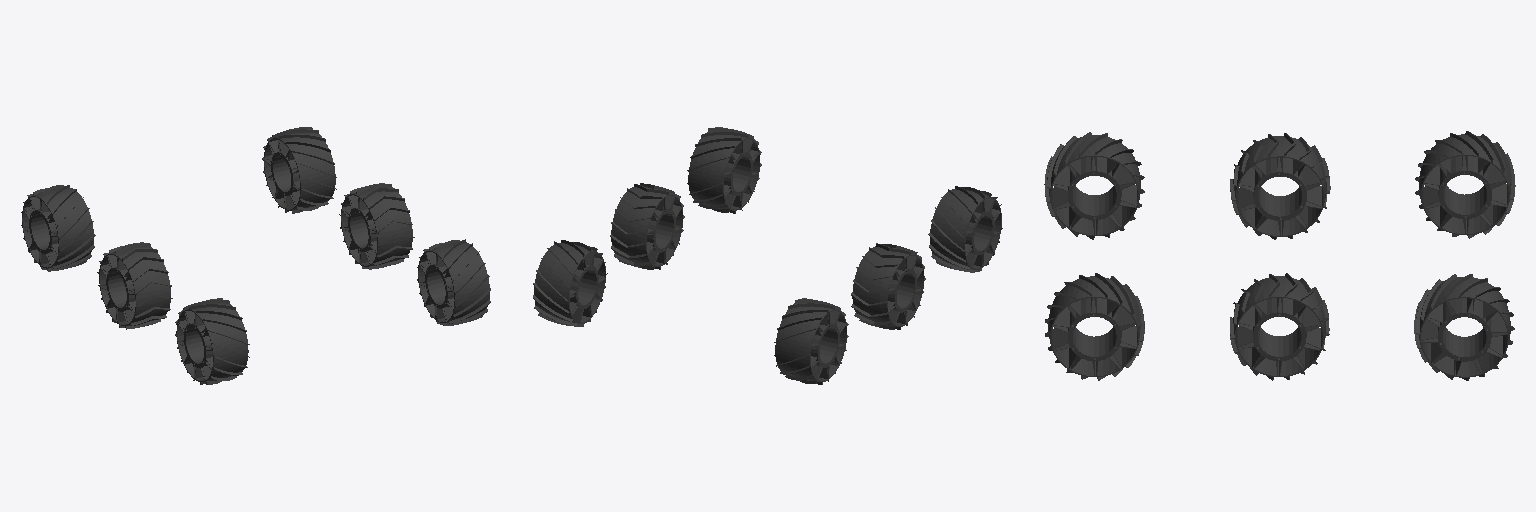
robot.urdf — roar:
<?xml version="1.0" encoding="utf-8"?>
<robot name="roar">
  <link name="base_link">
    <inertial>
      <origin xyz="0.00469098688936509 -0.0777682848151969 0.324101627417335" rpy="0 0 0" />
      <mass value="10.0" />
      <inertia ixx="0.0" ixy="0.0" ixz="0.0" iyy="0.0" iyz="0.0" izz="0.0" />
    </inertial>
    <visual>
      <origin xyz="0 0 0" rpy="0 0 0" />
      <geometry>
        <mesh filename="package://roar/meshes/base_link.STL" />
      </geometry>
      <material name="">
        <color rgba="0.529411764705882 0.549019607843137 0.549019607843137 1" />
      </material>
    </visual>
    <collision>
      <origin xyz="0 0 0" rpy="0 0 0" />
      <geometry>
        <mesh filename="package://roar/meshes/base_link.STL" />
      </geometry>
    </collision>
  </link>
  <link name="rocker_rhs">
    <inertial>
      <origin xyz="0.356634879782049 0.249567425783871 0.0168797911183071" rpy="0 0 0" />
      <mass value="1.55415245354649" />
      <inertia ixx="0.00304699343681013" ixy="-0.00122725683108501" ixz="-6.78110157247864E-05" iyy="0.00431671461496656" iyz="-4.53350583239748E-05" izz="0.00469688805108083" />
    </inertial>
    <visual>
      <origin xyz="0 0 0" rpy="0 0 0" />
      <geometry>
        <mesh filename="package://roar/meshes/rocker_rhs.STL" />
      </geometry>
      <material name="">
        <color rgba="0.792156862745098 0.819607843137255 0.933333333333333 1" />
      </material>
    </visual>
    <collision>
      <origin xyz="0 0 0" rpy="0 0 0" />
      <geometry>
        <mesh filename="package://roar/meshes/rocker_rhs.STL" />
      </geometry>
    </collision>
  </link>
  <joint name="rocker_rhs_joint" type="fixed">
    <origin xyz="0.341 -0.00441357789442404 0.318458529702179" rpy="-1.5707963267949 0.0269760214941811 -1.5707963267949" />
    <parent link="base_link" />
    <child link="rocker_rhs" />
    <axis xyz="0 0 -1" />
  </joint>
  <link name="bogie_rhs">
    <inertial>
      <origin xyz="0.000413252708581058 0.147072285784854 0.121779882797586" rpy="0 0 0" />
      <mass value="2.56788752987332" />
      <inertia ixx="0.00417595671889658" ixy="-2.40383932788247E-07" ixz="7.46152900476444E-08" iyy="0.00445750777097546" iyz="-9.37581657450096E-05" izz="0.00354223475883779" />
    </inertial>
    <visual>
      <origin xyz="0 0 0" rpy="0 0 0" />
      <geometry>
        <mesh filename="package://roar/meshes/bogie_rhs.STL" />
      </geometry>
      <material name="">
        <color rgba="0.792156862745098 0.819607843137255 0.933333333333333 1" />
      </material>
    </visual>
    <collision>
      <origin xyz="0 0 0" rpy="0 0 0" />
      <geometry>
        <mesh filename="package://roar/meshes/bogie_rhs.STL" />
      </geometry>
    </collision>
  </link>
  <joint name="bogie_rhs_joint" type="fixed">
    <origin xyz="-0.224229060097619 0.165122592734234 -0.0928547999999997" rpy="0 0 -0.03" />
    <parent link="rocker_rhs" />
    <child link="bogie_rhs" />
    <axis xyz="0 0 -1" />
  </joint>
  <link name="wheel_rhs_mid">
    <inertial>
      <origin xyz="3.05311331771918E-16 -0.00031009853866483 0.0600063600245654" rpy="0 0 0" />
      <mass value="1.5976653768916" />
      <inertia ixx="0.00836783341696594" ixy="7.18283939271647E-18" ixz="-5.84071446049636E-16" iyy="0.00836775197998545" iyz="-6.24418083574133E-14" izz="0.013244679799626" />
    </inertial>
    <visual>
      <origin xyz="0 0 0" rpy="0 0 0" />
      <geometry>
        <mesh filename="package://roar/meshes/wheel_rhs_mid.STL" />
      </geometry>
      <material name="">
        <color rgba="0.298039215686275 0.298039215686275 0.298039215686275 1" />
      </material>
    </visual>
    <collision>
      <origin xyz="0 0 0" rpy="0 0 0" />
      <geometry>
        <mesh filename="package://roar/meshes/wheel_rhs_mid.STL" />
      </geometry>
    </collision>
  </link>
  <joint name="wheel_rhs_mid_joint" type="continuous">
    <origin xyz="0.229224601627686 0.160798282710695 0.105843639709434" rpy="0 0 3.12607538350607" />
    <parent link="bogie_rhs" />
    <child link="wheel_rhs_mid" />
    <axis xyz="0 0 -1" />
  </joint>
  <link name="wheel_rhs_front">
    <inertial>
      <origin xyz="-6.28397432798078E-05 -0.000299207692801798 0.0617344385469731" rpy="0 0 0" />
      <mass value="1.55166626304694" />
      <inertia ixx="0.00800333028314918" ixy="-1.61745154658915E-08" ixz="5.54140420044703E-13" iyy="0.00800325666613796" iyz="2.637538385541E-12" izz="0.0125934306153833" />
    </inertial>
    <visual>
      <origin xyz="0 0 0" rpy="0 0 0" />
      <geometry>
        <mesh filename="package://roar/meshes/wheel_rhs_front.STL" />
      </geometry>
      <material name="">
        <color rgba="0.298039215686275 0.298039215686275 0.298039215686275 1" />
      </material>
    </visual>
    <collision>
      <origin xyz="0 0 0" rpy="0 0 0" />
      <geometry>
        <mesh filename="package://roar/meshes/wheel_rhs_front.STL" />
      </geometry>
    </collision>
  </link>
  <joint name="wheel_rhs_front_joint" type="continuous">
    <origin xyz="-0.229500390800753 0.160404414952893 0.104120372913068" rpy="0 0 -3.14159265358979" />
    <parent link="bogie_rhs" />
    <child link="wheel_rhs_front" />
    <axis xyz="0 0 -1" />
  </joint>
  <link name="wheel_rhs_rear">
    <inertial>
      <origin xyz="5.16253706450698E-15 0.00015154563885042 0.0600149113817935" rpy="0 0 0" />
      <mass value="1.55167119278224" />
      <inertia ixx="0.00800323403290157" ixy="-1.03184896315713E-16" ixz="-1.94336817583681E-17" iyy="0.00800315362181799" iyz="-1.09712890180285E-10" izz="0.0125935069824427" />
    </inertial>
    <visual>
      <origin xyz="0 0 0" rpy="0 0 0" />
      <geometry>
        <mesh filename="package://roar/meshes/wheel_rhs_rear.STL" />
      </geometry>
      <material name="">
        <color rgba="0.298039215686275 0.298039215686275 0.298039215686275 1" />
      </material>
    </visual>
    <collision>
      <origin xyz="0 0 0" rpy="0 0 0" />
      <geometry>
        <mesh filename="package://roar/meshes/wheel_rhs_rear.STL" />
      </geometry>
    </collision>
  </link>
  <joint name="wheel_rhs_rear_joint" type="continuous">
    <origin xyz="0.46794017955705 0.307105950932406 0.0129798220506307" rpy="0 0 3.14159265358979" />
    <parent link="rocker_rhs" />
    <child link="wheel_rhs_rear" />
    <axis xyz="0 0 -1" />
  </joint>
  <link name="rocker_lhs">
    <inertial>
      <origin xyz="0.355676246263101 -0.251011188160812 0.114353485211955" rpy="0 0 0" />
      <mass value="1.55450623077954" />
      <inertia ixx="0.00304702979065891" ixy="0.00122725847821496" ixz="-6.7805504639355E-05" iyy="0.00431674151222301" iyz="4.53438210665476E-05" izz="0.00469693111237126" />
    </inertial>
    <visual>
      <origin xyz="0 0 0" rpy="0 0 0" />
      <geometry>
        <mesh filename="package://roar/meshes/rocker_lhs.STL" />
      </geometry>
      <material name="">
        <color rgba="0.792156862745098 0.819607843137255 0.933333333333333 1" />
      </material>
    </visual>
    <collision>
      <origin xyz="0 0 0" rpy="0 0 0" />
      <geometry>
        <mesh filename="package://roar/meshes/rocker_lhs.STL" />
      </geometry>
    </collision>
  </link>
  <joint name="rocker_lhs_joint" type="fixed">
    <origin xyz="-0.244499999999996 -0.00517486124912506 0.320045490177976" rpy="1.5707963267949 0.0269760214941811 -1.5707963267949" />
    <parent link="base_link" />
    <child link="rocker_lhs" />
    <axis xyz="0 0 1" />
  </joint>
  <link name="bogie_lhs">
    <inertial>
      <origin xyz="0.00196274820164133 -0.147059768544191 0.121779882817316" rpy="0 0 0" />
      <mass value="2.56788753304685" />
      <inertia ixx="0.0041760379642359" ixy="-4.78811399342551E-06" ixz="-1.58926496416294E-06" iyy="0.00445742650894979" iyz="9.37447259554026E-05" izz="0.00354223473986378" />
    </inertial>
    <visual>
      <origin xyz="0 0 0" rpy="0 0 0" />
      <geometry>
        <mesh filename="package://roar/meshes/bogie_lhs.STL" />
      </geometry>
      <material name="">
        <color rgba="0.792156862745098 0.819607843137255 0.933333333333333 1" />
      </material>
    </visual>
    <collision>
      <origin xyz="0 0 0" rpy="0 0 0" />
      <geometry>
        <mesh filename="package://roar/meshes/bogie_lhs.STL" />
      </geometry>
    </collision>
  </link>
  <joint name="bogie_lhs_joint" type="fixed">
    <origin xyz="-0.224947261786088 -0.16672950973041 0.00464519999999913" rpy="0 0 0" />
    <parent link="rocker_lhs" />
    <child link="bogie_lhs" />
    <axis xyz="0 0 -1" />
  </joint>
  <link name="wheel_lhs_mid">
    <inertial>
      <origin xyz="8.32667268468867E-17 0.000310098538664483 0.0600061613680265" rpy="0 0 0" />
      <mass value="1.59766537689161" />
      <inertia ixx="0.00836783341696616" ixy="1.29476733188556E-16" ixz="-2.78394080503685E-16" iyy="0.00836775197998588" iyz="-6.25104164123782E-14" izz="0.0132446797996265" />
    </inertial>
    <visual>
      <origin xyz="0 0 0" rpy="0 0 0" />
      <geometry>
        <mesh filename="package://roar/meshes/wheel_lhs_mid.STL" />
      </geometry>
      <material name="">
        <color rgba="0.298039215686275 0.298039215686275 0.298039215686275 1" />
      </material>
    </visual>
    <collision>
      <origin xyz="0 0 0" rpy="0 0 0" />
      <geometry>
        <mesh filename="package://roar/meshes/wheel_lhs_mid.STL" />
      </geometry>
    </collision>
  </link>
  <joint name="wheel_lhs_mid_joint" type="continuous">
    <origin xyz="0.232061767651008 -0.156675912982079 0.105848638897971" rpy="0 0 3.14159265358979" />
    <parent link="bogie_lhs" />
    <child link="wheel_lhs_mid" />
    <axis xyz="0 0 1" />
  </joint>
  <link name="wheel_lhs_front">
    <inertial>
      <origin xyz="4.44089209850063E-16 0.000305735786541028 0.060015644846366" rpy="0 0 0" />
      <mass value="1.55167119278224" />
      <inertia ixx="0.0080032340329016" ixy="8.92343020906058E-17" ixz="-4.04328578482084E-17" iyy="0.00800315362181802" iyz="-1.09712873056732E-10" izz="0.0125935069824427" />
    </inertial>
    <visual>
      <origin xyz="0 0 0" rpy="0 0 0" />
      <geometry>
        <mesh filename="package://roar/meshes/wheel_lhs_front.STL" />
      </geometry>
      <material name="">
        <color rgba="0.298039215686275 0.298039215686275 0.298039215686275 1" />
      </material>
    </visual>
    <collision>
      <origin xyz="0 0 0" rpy="0 0 0" />
      <geometry>
        <mesh filename="package://roar/meshes/wheel_lhs_front.STL" />
      </geometry>
    </collision>
  </link>
  <joint name="wheel_lhs_front_joint" type="continuous">
    <origin xyz="-0.226596998316561 -0.164480412414379 0.105834821721209" rpy="0 0 3.14159265358979" />
    <parent link="bogie_lhs" />
    <child link="wheel_lhs_front" />
    <axis xyz="0 0 1" />
  </joint>
  <link name="wheel_lhs_rear">
    <inertial>
      <origin xyz="3.33066907387547E-16 0.000305735305071581 0.0617344149234693" rpy="0 0 0" />
      <mass value="1.55166626304695" />
      <inertia ixx="0.00800333368012843" ixy="1.76843939308345E-16" ixz="4.18511383343929E-16" iyy="0.00800325326915781" iyz="2.69448778130305E-12" izz="0.0125934306153827" />
    </inertial>
    <visual>
      <origin xyz="0 0 0" rpy="0 0 0" />
      <geometry>
        <mesh filename="package://roar/meshes/wheel_lhs_rear.STL" />
      </geometry>
      <material name="">
        <color rgba="0.298039215686275 0.298039215686275 0.298039215686275 1" />
      </material>
    </visual>
    <collision>
      <origin xyz="0 0 0" rpy="0 0 0" />
      <geometry>
        <mesh filename="package://roar/meshes/wheel_lhs_rear.STL" />
      </geometry>
    </collision>
  </link>
  <joint name="wheel_lhs_rear_joint" type="continuous">
    <origin xyz="0.467221977868636 -0.308712867928559 0.108765573616487" rpy="0 0 3.14159265358979" />
    <parent link="rocker_lhs" />
    <child link="wheel_lhs_rear" />
    <axis xyz="0 0 1" />
  </joint>

  <!-- ROS Control plugin for Gazebo-->
  <gazebo>
    <plugin name="gazebo_ros_control" filename="libgazebo_ros_control.so"/>
    <!-- <robotNamespace>/roar</robotNamespace> -->
  </gazebo>

  <!--transmission-->
  <transmission name="wheel_lhs_front_transmission">
    <type>transmission_interface/SimpleTransmission</type>
    <joint name="wheel_lhs_front_joint">
      <hardwareInterface>hardware_interface/VelocityJointInterface</hardwareInterface>
    </joint>
    <actuator name="wheel_lhs_front_motor">
      <mechanicalReduction>1</mechanicalReduction>
    </actuator>
  </transmission>

  <transmission name="wheel_lhs_mid_transmission">
    <type>transmission_interface/SimpleTransmission</type>
    <joint name="wheel_lhs_mid_joint">
      <hardwareInterface>hardware_interface/VelocityJointInterface</hardwareInterface>
    </joint>
    <actuator name="wheel_lhs_mid_motor">
      <mechanicalReduction>1</mechanicalReduction>
    </actuator>
  </transmission>

  <transmission name="wheel_lhs_rear_transmission">
    <type>transmission_interface/SimpleTransmission</type>
    <joint name="wheel_lhs_rear_joint">
      <hardwareInterface>hardware_interface/VelocityJointInterface</hardwareInterface>
    </joint>
    <actuator name="wheel_lhs_rear_motor">
      <mechanicalReduction>1</mechanicalReduction>
    </actuator>
  </transmission>

  <transmission name="wheel_rhs_front_transmission">
    <type>transmission_interface/SimpleTransmission</type>
    <joint name="wheel_rhs_front_joint">
      <hardwareInterface>hardware_interface/VelocityJointInterface</hardwareInterface>
    </joint>
    <actuator name="wheel_rhs_front_motor">
      <mechanicalReduction>1</mechanicalReduction>
    </actuator>
  </transmission>

  <transmission name="wheel_rhs_mid_transmission">
    <type>transmission_interface/SimpleTransmission</type>
    <joint name="wheel_rhs_mid_joint">
      <hardwareInterface>hardware_interface/VelocityJointInterface</hardwareInterface>
    </joint>
    <actuator name="wheel_rhs_mid_motor">
      <mechanicalReduction>1</mechanicalReduction>
    </actuator>
  </transmission>

  <transmission name="wheel_rhs_rear_transmission">
    <type>transmission_interface/SimpleTransmission</type>
    <joint name="wheel_rhs_rear_joint">
      <hardwareInterface>hardware_interface/VelocityJointInterface</hardwareInterface>
    </joint>
    <actuator name="wheel_rhs_rear_motor">
      <mechanicalReduction>1</mechanicalReduction>
    </actuator>
  </transmission>

  <gazebo>
    <plugin name="imu_plugin" filename="libgazebo_ros_imu.so">
      <alwaysOn>true</alwaysOn>
      <bodyName>base_link</bodyName>
      <topicName>imu</topicName>
      <serviceName>imu_service</serviceName>
      <gaussianNoise>0.0</gaussianNoise>
      <updateRate>20.0</updateRate>
    </plugin>
  </gazebo>

  <!-- Adding GPS sensor from hector_gazebo_plugin-->
  <gazebo>
    <plugin name="novatel_gps_sim" filename="libhector_gazebo_ros_gps.so">
      <alwaysOn>1</alwaysOn>
      <updateRate>10.0</updateRate>
      <bodyName>base_link</bodyName>
      <topicName>gps</topicName>
      <velocityTopicName>fix_velocity</velocityTopicName>
      <drift>5.0 5.0 5.0</drift>
      <gaussianNoise>0.1 0.1 0.1</gaussianNoise>
      <velocityDrift>0 0 0</velocityDrift>
      <velocityGaussianNoise>0.1 0.1 0.1</velocityGaussianNoise>
    </plugin>
  </gazebo>

  <gazebo>
    <plugin name="magnetometer" filename="libhector_gazebo_ros_magnetic.so">
      <updateRate>20.0</updateRate>
      <bodyname>base_link</bodyname>
      <topicName>magnetometer</topicName>
      <referenceHeading>0.0</referenceHeading>
      <declination>11.4017</declination>
      <inclination>-68.5006</inclination>
      <offset>0 0 0</offset>
      <driftFrequency>0 0 0</driftFrequency>
      <gaussianNoise>0 0 0</gaussianNoise>
    </plugin>
  </gazebo>

</robot>

--- What the picture shows (computed from the rendered views, not written in the file) ---
Views: 3 orthographic renders of the robot side by side, from view 1: azimuth 30°, elevation 25°; view 2: azimuth 150°, elevation 25°; view 3: azimuth 270°, elevation 25°.
Robot: roar — 11 links, 10 joints (6 continuous, 4 fixed); root link base_link; default pose: every joint at zero.
Links seen in each view (by area): view 1: wheel_lhs_mid, wheel_rhs_rear, wheel_lhs_front, wheel_rhs_mid, wheel_rhs_front, wheel_lhs_rear; view 2: wheel_lhs_mid, wheel_rhs_mid, wheel_rhs_rear, wheel_lhs_front, wheel_rhs_front, wheel_lhs_rear; view 3: wheel_rhs_front, wheel_rhs_rear, wheel_lhs_rear, wheel_lhs_front, wheel_lhs_mid, wheel_rhs_mid.
Link boxes in pixels (x1=…): wheel_lhs_mid: x1=97, y1=242, x2=172, y2=329; wheel_rhs_rear: x1=417, y1=239, x2=490, y2=325; wheel_lhs_front: x1=21, y1=185, x2=95, y2=271; wheel_rhs_mid: x1=339, y1=183, x2=414, y2=269; wheel_rhs_front: x1=262, y1=127, x2=336, y2=213; wheel_lhs_rear: x1=175, y1=298, x2=249, y2=384; wheel_lhs_mid: x1=851, y1=243, x2=925, y2=329; wheel_rhs_mid: x1=610, y1=183, x2=684, y2=269; wheel_rhs_rear: x1=687, y1=127, x2=761, y2=213; wheel_lhs_front: x1=774, y1=298, x2=848, y2=384; wheel_rhs_front: x1=533, y1=240, x2=607, y2=326; wheel_lhs_rear: x1=928, y1=186, x2=1002, y2=272; wheel_rhs_front: x1=1414, y1=274, x2=1514, y2=380; wheel_rhs_rear: x1=1045, y1=273, x2=1144, y2=380; wheel_lhs_rear: x1=1044, y1=132, x2=1144, y2=239; wheel_lhs_front: x1=1415, y1=131, x2=1515, y2=238; wheel_lhs_mid: x1=1230, y1=133, x2=1330, y2=239; wheel_rhs_mid: x1=1230, y1=273, x2=1329, y2=380.
Size in the robot's own frame: 0.949 by 1.17 by 0.2545 metres.
6 mesh visuals loaded from 11 distinct referenced files (6 binary STL); not drawn: 5 (reference not matched to a file when rendering).